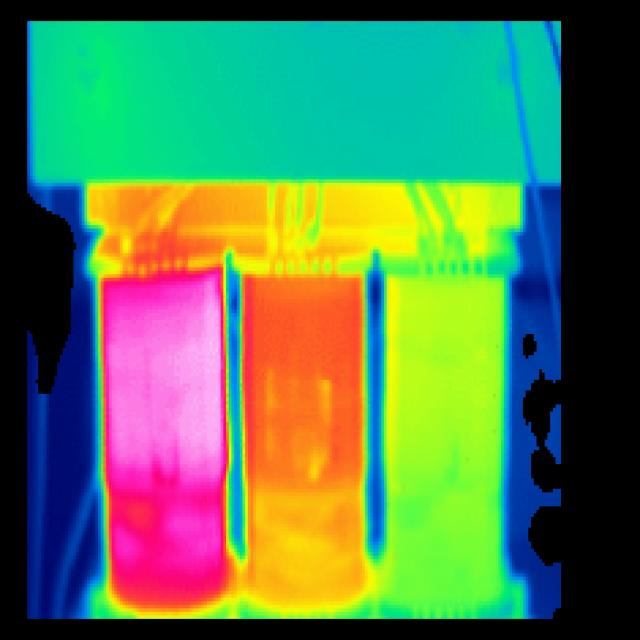Transformer Overload: (92, 254, 371, 620)
